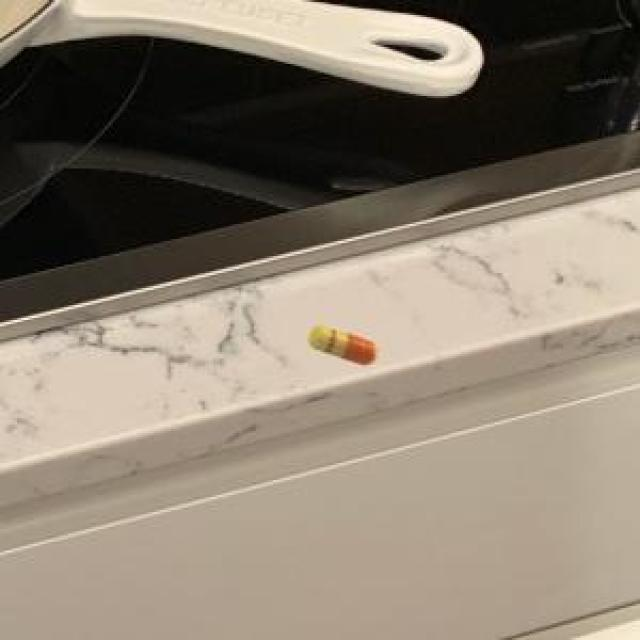Alaxan: (299, 313, 384, 372)
